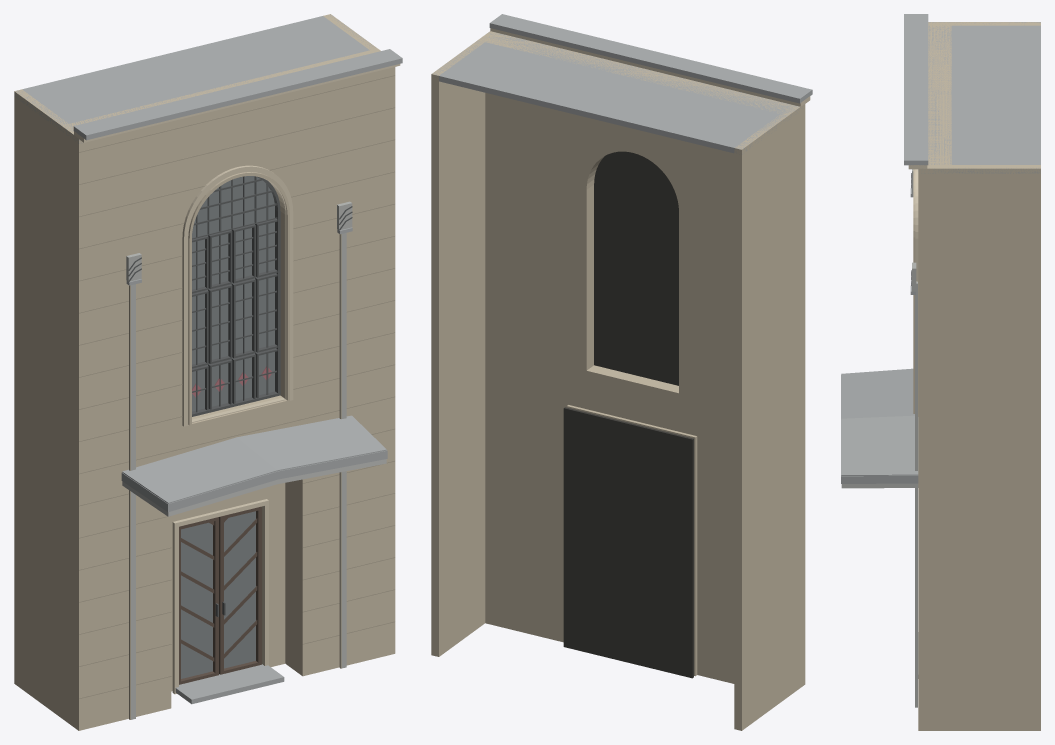
Rendered from huangpu-shaoxing-road-nine-arched-entrance-lod.glb.
3 views of the same model, side by side, from view 1: azimuth 30°, elevation 25°; view 2: azimuth 150°, elevation 25°; view 3: azimuth 270°, elevation 25° (orthographic). The views are drawn at different scales.
Parts seen in each view (by area): view 1: 爱麦虞限路9号宅绍兴路拱窗与挑篷入口; view 2: 爱麦虞限路9号宅绍兴路拱窗与挑篷入口; view 3: 爱麦虞限路9号宅绍兴路拱窗与挑篷入口.
Part boxes in pixels (x1,y1,x2,y2): 爱麦虞限路9号宅绍兴路拱窗与挑篷入口: (14,14,402,730); 爱麦虞限路9号宅绍兴路拱窗与挑篷入口: (431,14,812,730); 爱麦虞限路9号宅绍兴路拱窗与挑篷入口: (841,14,1040,730).
Size of the model in its own units: 5.74 by 10.45 by 3.31.
